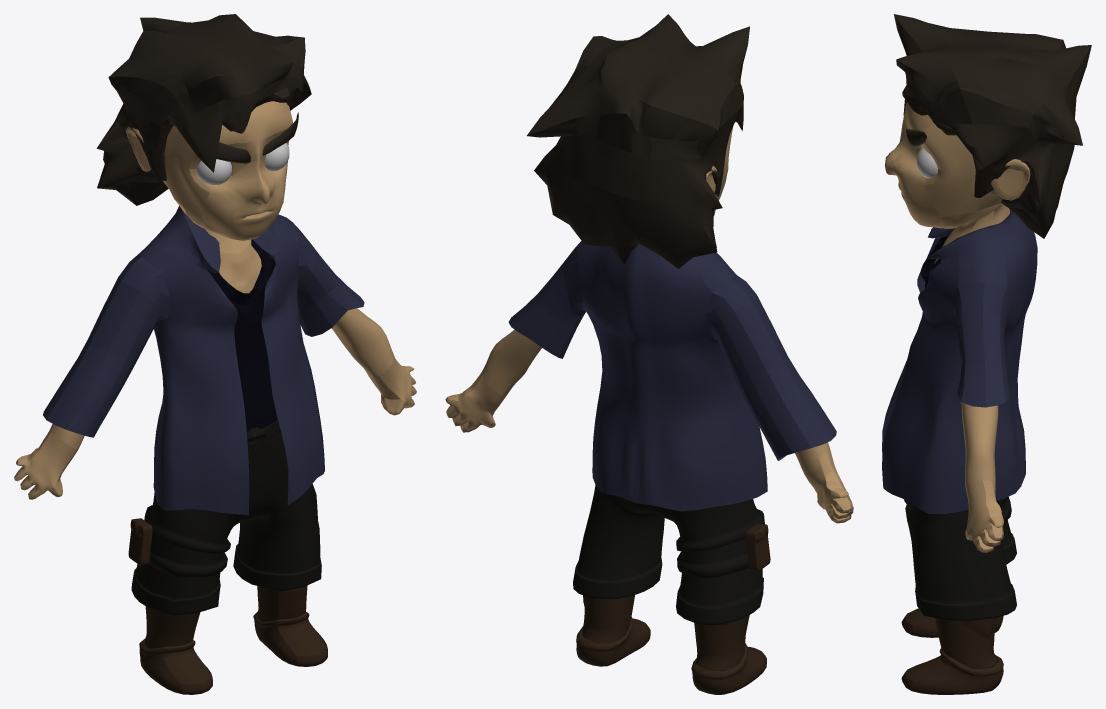
Rendered from viktor.fbx.
3 views of the same model, side by side, from view 1: azimuth 30°, elevation 25°; view 2: azimuth 150°, elevation 25°; view 3: azimuth 270°, elevation 25° (orthographic).
Parts seen in each view (by area): view 1: Personaje; view 2: Personaje; view 3: Personaje.
Part boxes in pixels (<box>): Personaje: <box>14,14,416,694</box>; Personaje: <box>445,14,853,694</box>; Personaje: <box>882,14,1091,694</box>.
Bounding box in the file's own units: 124 × 56.33 × 184.
